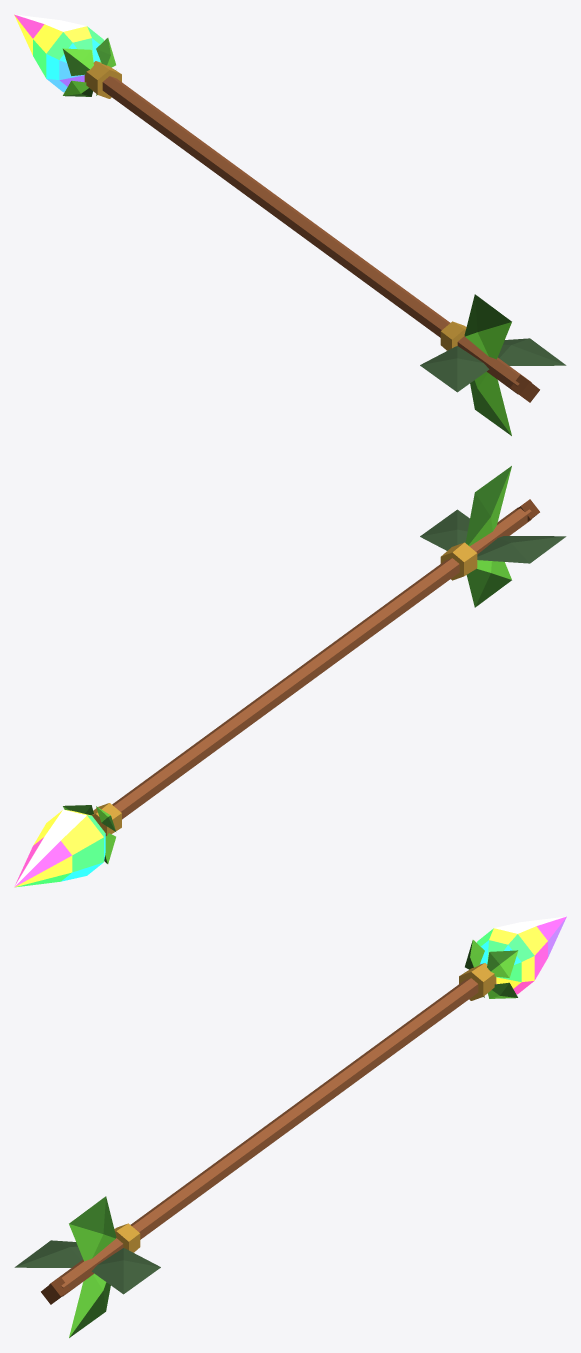
The model's file is glade_spirit_arrow.glb.
3 renders of one model, top to bottom at view 1: azimuth 30°, elevation 25°; view 2: azimuth 150°, elevation 25°; view 3: azimuth 330°, elevation 25°, orthographic.
Visible parts, largest first — view 1: Shaft, ArrowHead, Fletching1, Fletching4, HeadLeaves, Fletching2, Fletching3, HeadCollar, RearCollar; view 2: Shaft, ArrowHead, Fletching1, Fletching4, Fletching2, Fletching3, RearCollar, HeadLeaves; view 3: Shaft, ArrowHead, Fletching1, Fletching3, HeadLeaves, Fletching2, Fletching4, HeadCollar, RearCollar.
Boxes of the visible parts, bbox=[...] form: Shaft: bbox=[102, 76, 531, 394]; ArrowHead: bbox=[14, 14, 103, 92]; Fletching1: bbox=[464, 294, 511, 359]; Fletching4: bbox=[420, 346, 489, 392]; HeadLeaves: bbox=[62, 38, 115, 96]; Fletching2: bbox=[470, 371, 511, 435]; Fletching3: bbox=[498, 338, 566, 365]; HeadCollar: bbox=[84, 61, 121, 98]; RearCollar: bbox=[440, 321, 466, 350]; Shaft: bbox=[112, 507, 531, 819]; ArrowHead: bbox=[14, 809, 105, 887]; Fletching1: bbox=[465, 466, 511, 546]; Fletching4: bbox=[477, 536, 566, 563]; Fletching2: bbox=[466, 560, 511, 607]; Fletching3: bbox=[420, 509, 469, 550]; RearCollar: bbox=[440, 542, 477, 580]; HeadLeaves: bbox=[63, 805, 115, 863]; Shaft: bbox=[49, 978, 478, 1296]; ArrowHead: bbox=[477, 916, 566, 994]; Fletching1: bbox=[69, 1196, 116, 1261]; Fletching3: bbox=[91, 1248, 160, 1294]; HeadLeaves: bbox=[465, 940, 518, 998]; Fletching2: bbox=[69, 1273, 110, 1337]; Fletching4: bbox=[14, 1240, 82, 1267]; HeadCollar: bbox=[459, 963, 496, 1000]; RearCollar: bbox=[114, 1223, 140, 1252].
Bounding box in the file's own units: 0.2298 × 0.2298 × 1.86.
